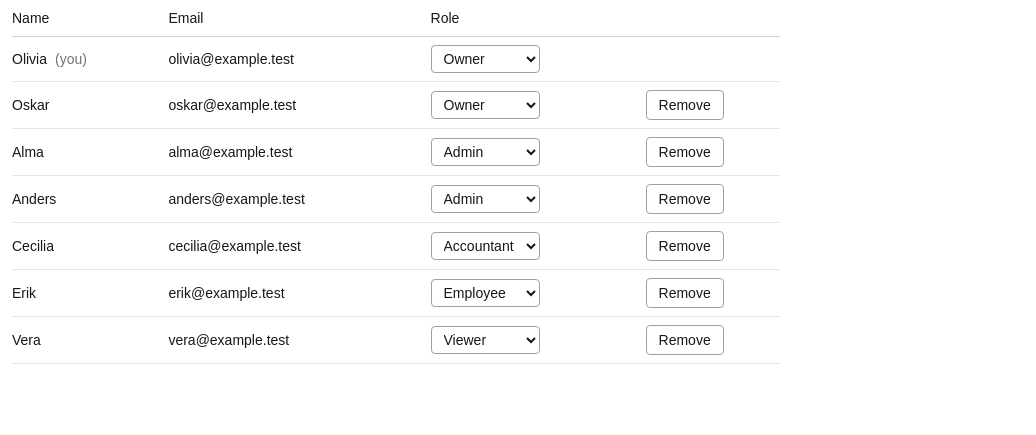
it: MembersAdmin › removal asks first, then deletes, then re-reads
Click the button with test id "member-remove" in the row of "vera@example.test". click: (685, 340)
box: [646, 325, 724, 355]
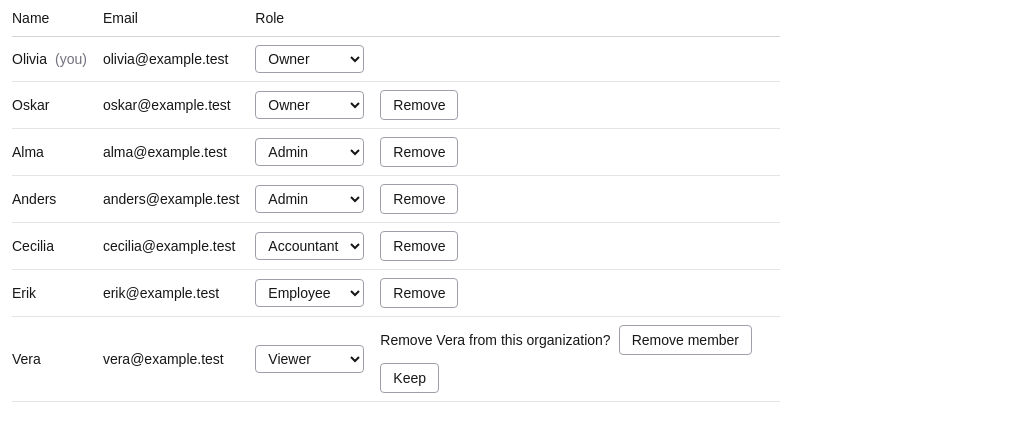
Click the button "Remove member". click: (685, 340)
box: [619, 325, 752, 355]
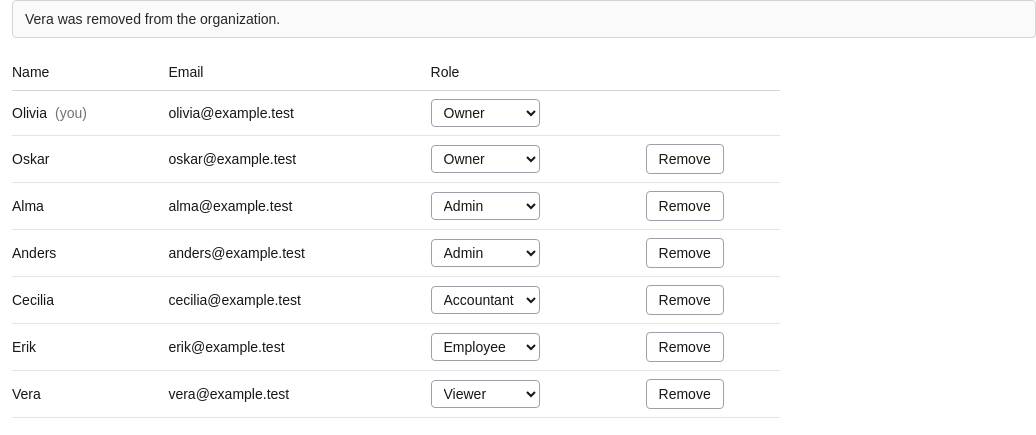
Result: the message with test id "members-message" shows "Vera was removed" at [25, 11, 280, 27]
